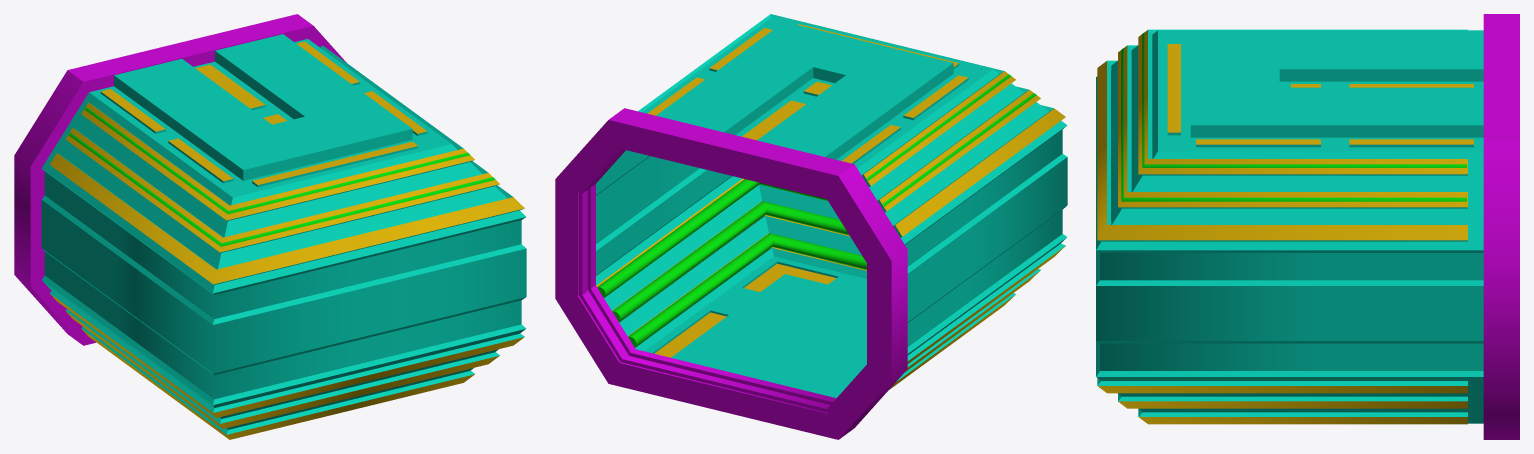
Rendered from sf2_player.fbx.
3 views of the same model, side by side, from view 1: azimuth 30°, elevation 25°; view 2: azimuth 150°, elevation 25°; view 3: azimuth 270°, elevation 25° (orthographic). The views are drawn at different scales.
Visible parts, largest first — view 1: Shape003; view 2: Shape003; view 3: Shape003.
Part boxes in pixels (x1,y1,x2,y2): Shape003: [14, 14, 526, 439]; Shape003: [555, 14, 1067, 439]; Shape003: [1096, 14, 1519, 439].
Bounding box in the file's own units: 74.62 × 56 × 71.98.
